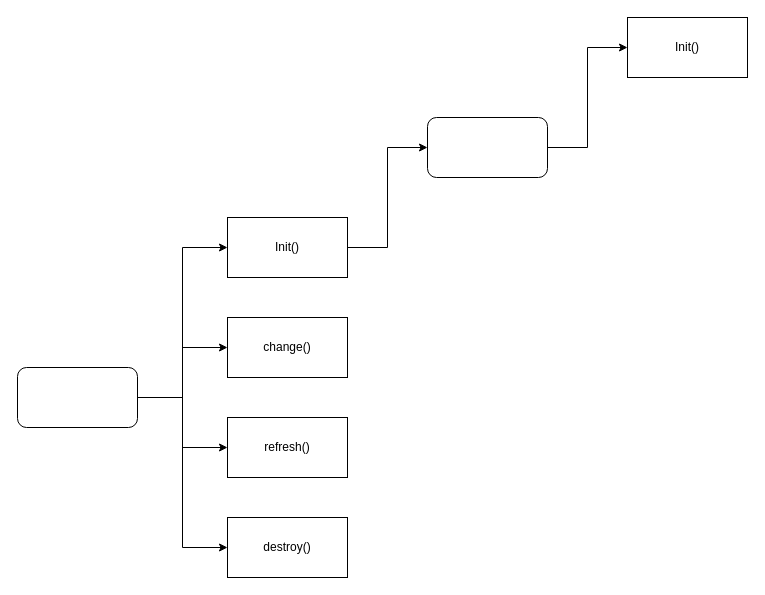
This 765x595 diagram has some shape labels left out. The shapes that lost their labels are listed below. From the top down, each one's centre as x and y in pixels, then its label:
pixel 487 147: flowchart
pixel 77 397: FlowchartHandler
